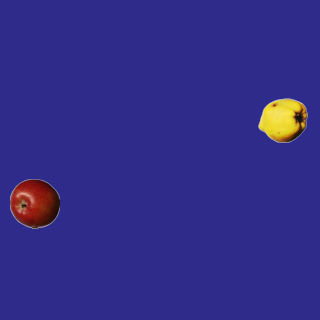Apple Braeburn: (9, 178, 59, 228)
Quince: (257, 95, 307, 145)
